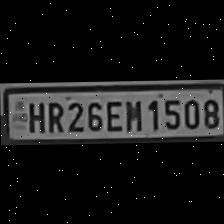0: (180, 95, 200, 128)
1: (142, 96, 160, 130)
2: (63, 98, 83, 132)
5: (158, 94, 180, 130)
6: (83, 98, 103, 131)
8: (199, 95, 219, 128)
E: (103, 96, 123, 132)
H: (24, 99, 44, 132)
M: (122, 96, 144, 131)
R: (43, 97, 62, 132)
